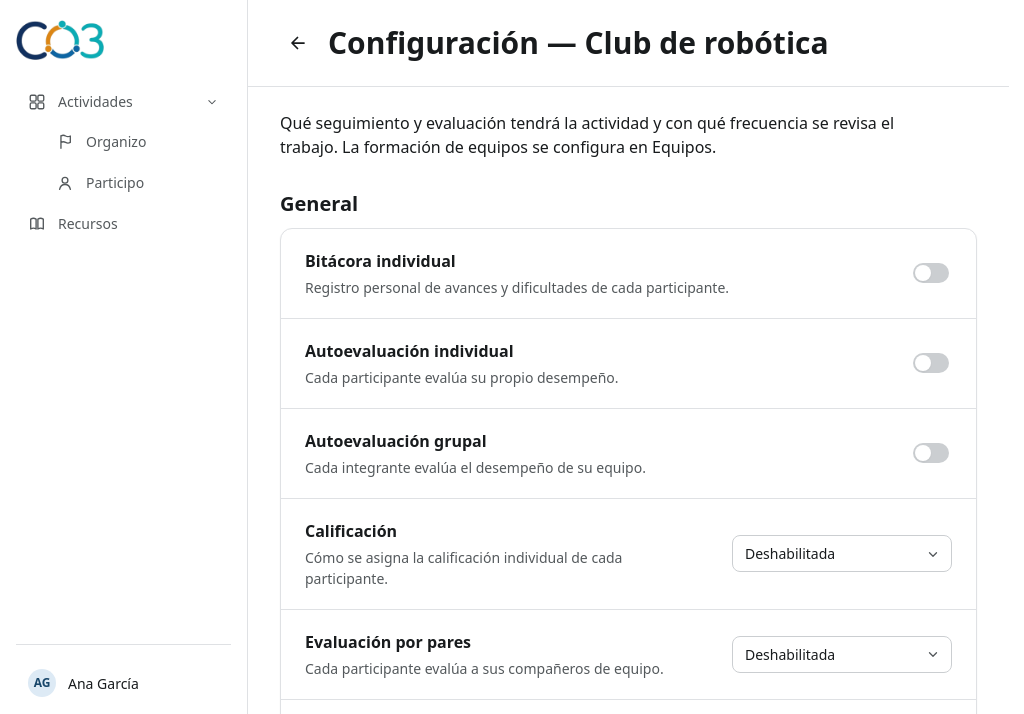
Test case: PantallaConfiguracion › muestra el error inline si el guardado falla
Step 1. Click the switch named "Bitácora individual" in the row of "Bitácora individual" → (931, 273), box [913,263,949,283]
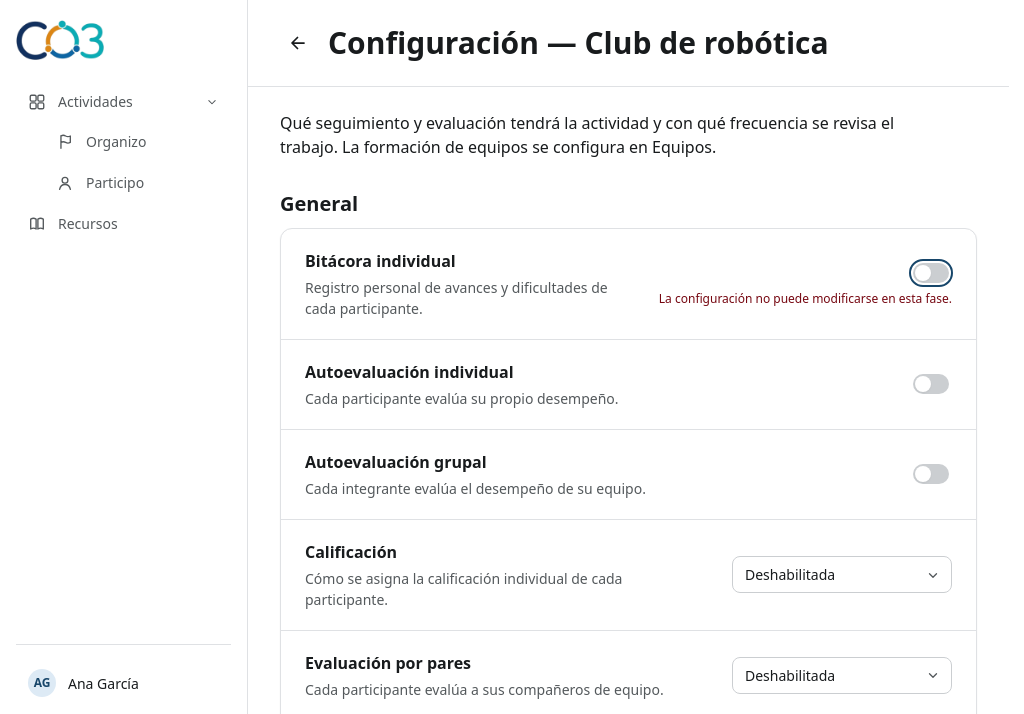
Now the text "La configuración no puede modificarse en esta fase." is shown, box [659,290,952,308]
